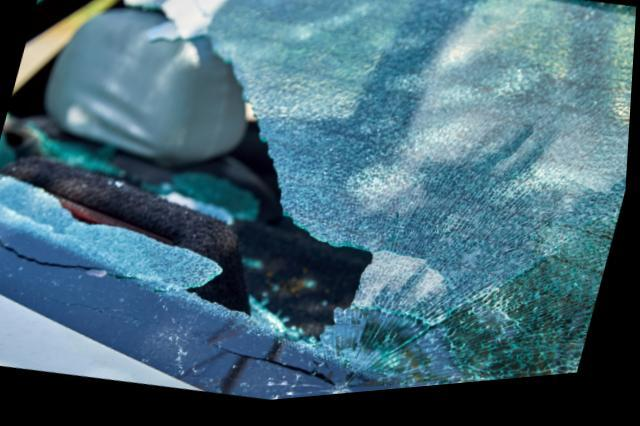glass shatter: (0, 0, 637, 405)
